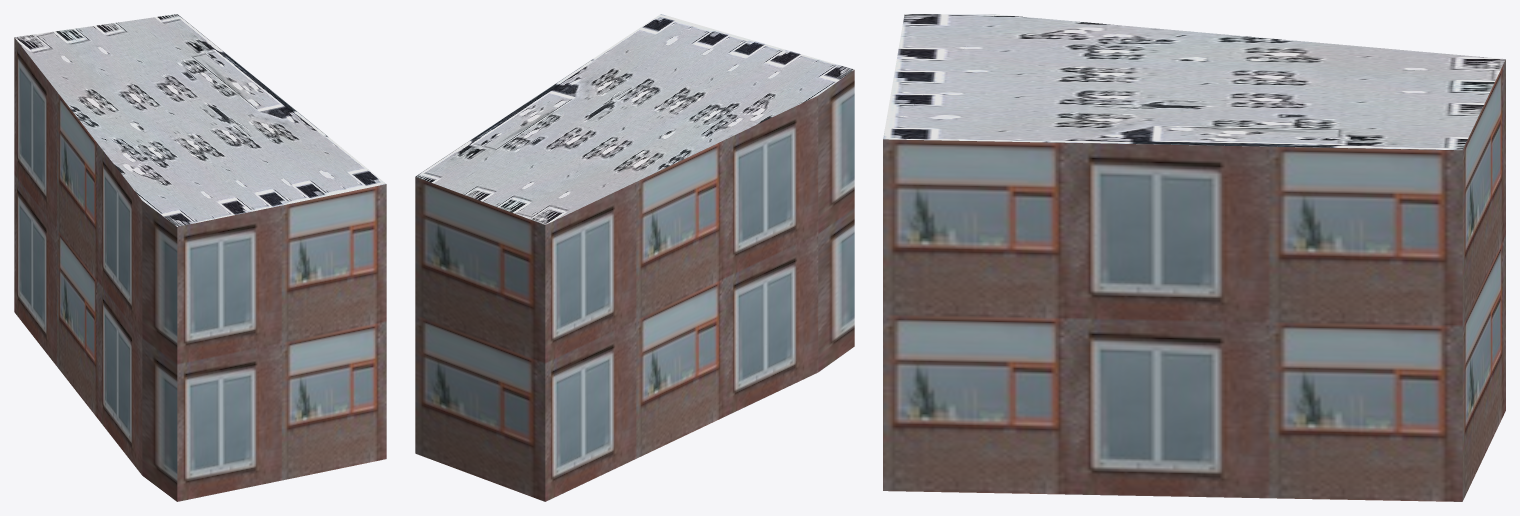
Rendered from ResTex__2642.fbx.
3 renders of one model, left to right at view 1: azimuth 30°, elevation 25°; view 2: azimuth 150°, elevation 25°; view 3: azimuth 270°, elevation 25°, orthographic. The views are drawn at different scales.
Visible parts, largest first — view 1: CityEngineMaterial_19_m, CityEngineMaterial_8_m; view 2: CityEngineMaterial_19_m, CityEngineMaterial_8_m; view 3: CityEngineMaterial_19_m, CityEngineMaterial_8_m.
Part boxes in pixels (x1,y1,x2,y2): CityEngineMaterial_19_m: (14,37,386,501); CityEngineMaterial_8_m: (15,14,385,226); CityEngineMaterial_19_m: (415,70,854,501); CityEngineMaterial_8_m: (415,14,854,224); CityEngineMaterial_19_m: (883,59,1505,501); CityEngineMaterial_8_m: (883,14,1505,150).
Size of the model in its own units: 4.99 by 6 by 9.63.
Materials: 2 (2 with a texture image).
